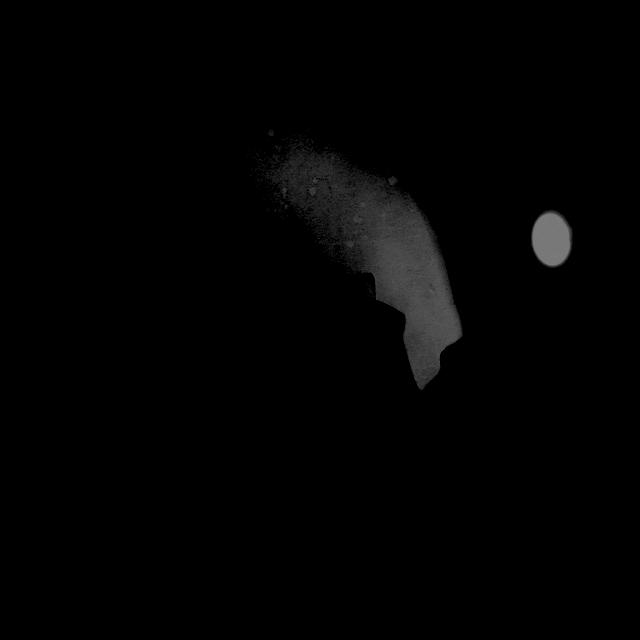Dog: (338, 339, 560, 564)
